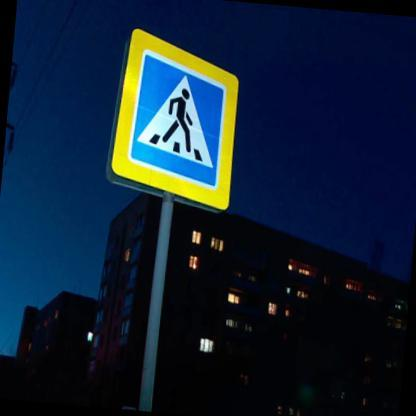road_sign: (107, 29, 237, 209)
